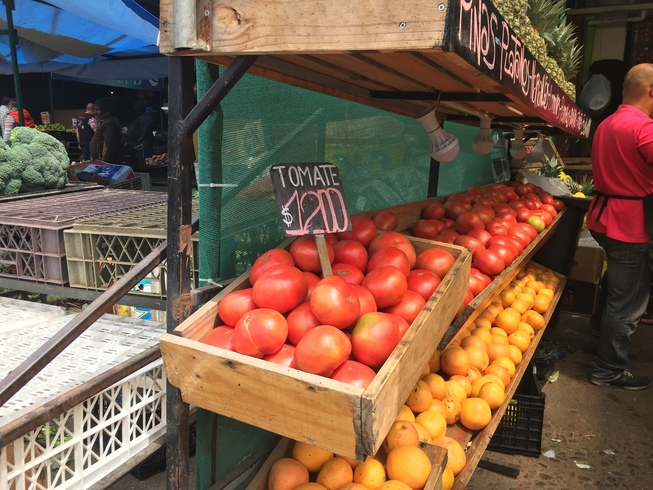precio: (265, 154, 363, 233)
